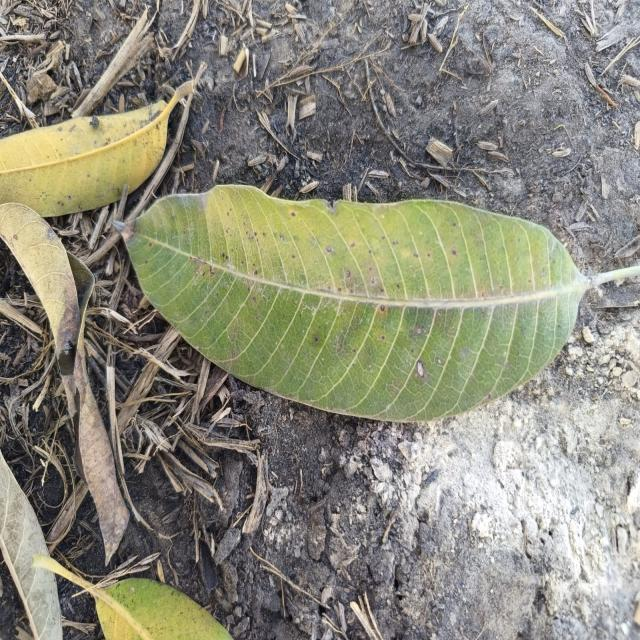black die: (221, 251, 230, 262), (290, 211, 296, 218)
